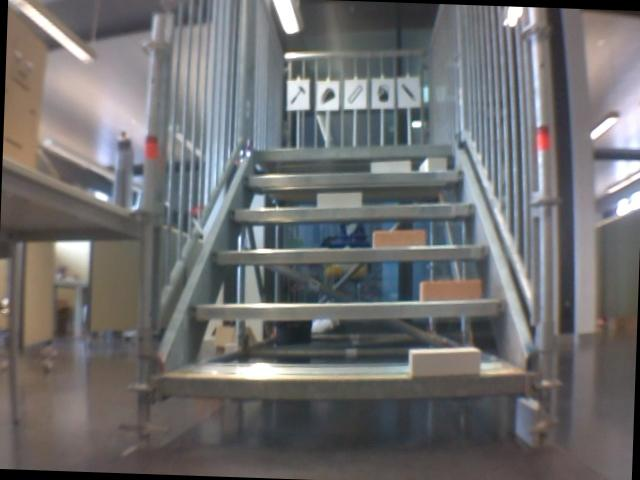brick: (408, 346, 479, 376), (419, 277, 480, 301), (372, 228, 424, 248), (317, 190, 360, 208), (370, 159, 409, 174), (419, 157, 445, 172)
bucket: (373, 82, 392, 103)
edge: (158, 361, 525, 406), (190, 290, 509, 327), (212, 236, 491, 270), (228, 193, 474, 229), (244, 163, 462, 192), (253, 139, 454, 166)
hammer: (287, 83, 306, 107)
pencil: (398, 81, 419, 104)
ruler: (344, 80, 364, 106)
steps: (152, 133, 541, 414)
taco: (317, 84, 337, 108)
